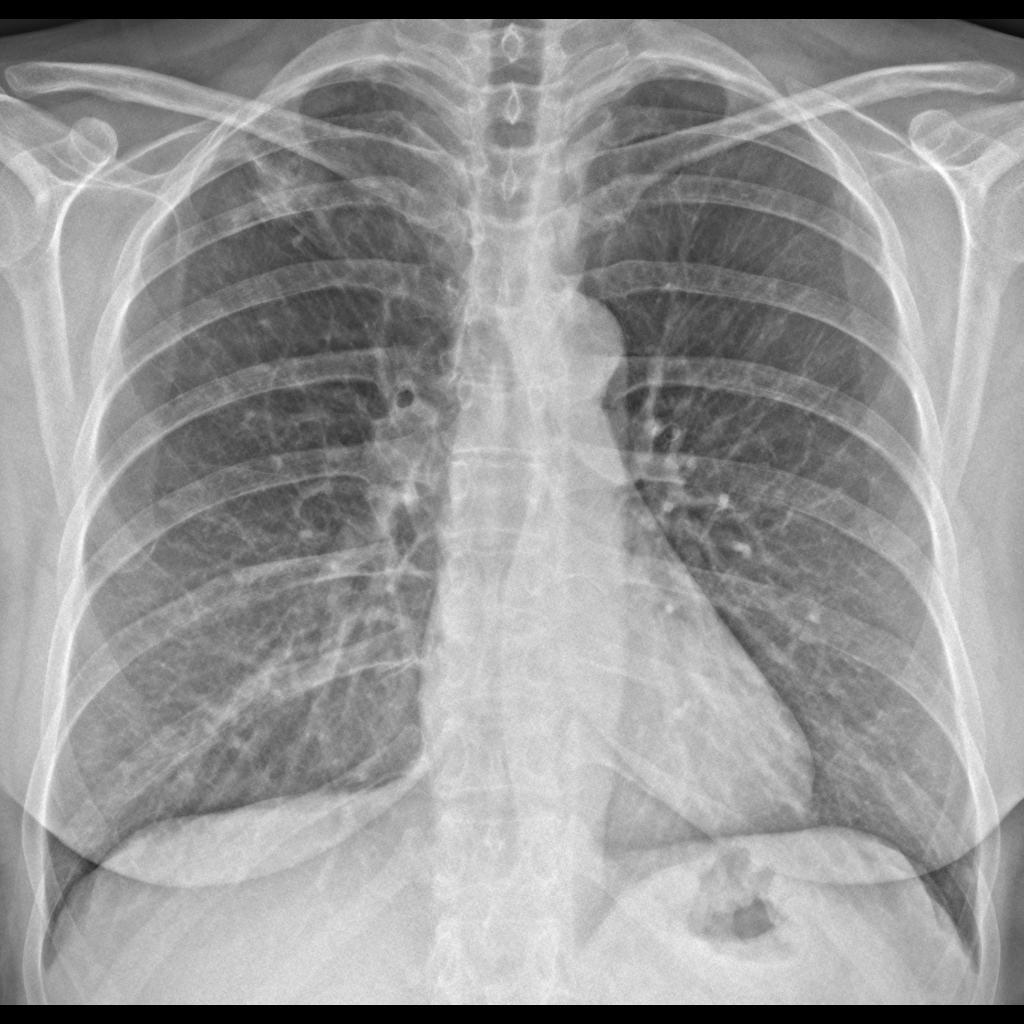Nodule: (241, 169, 316, 233)
